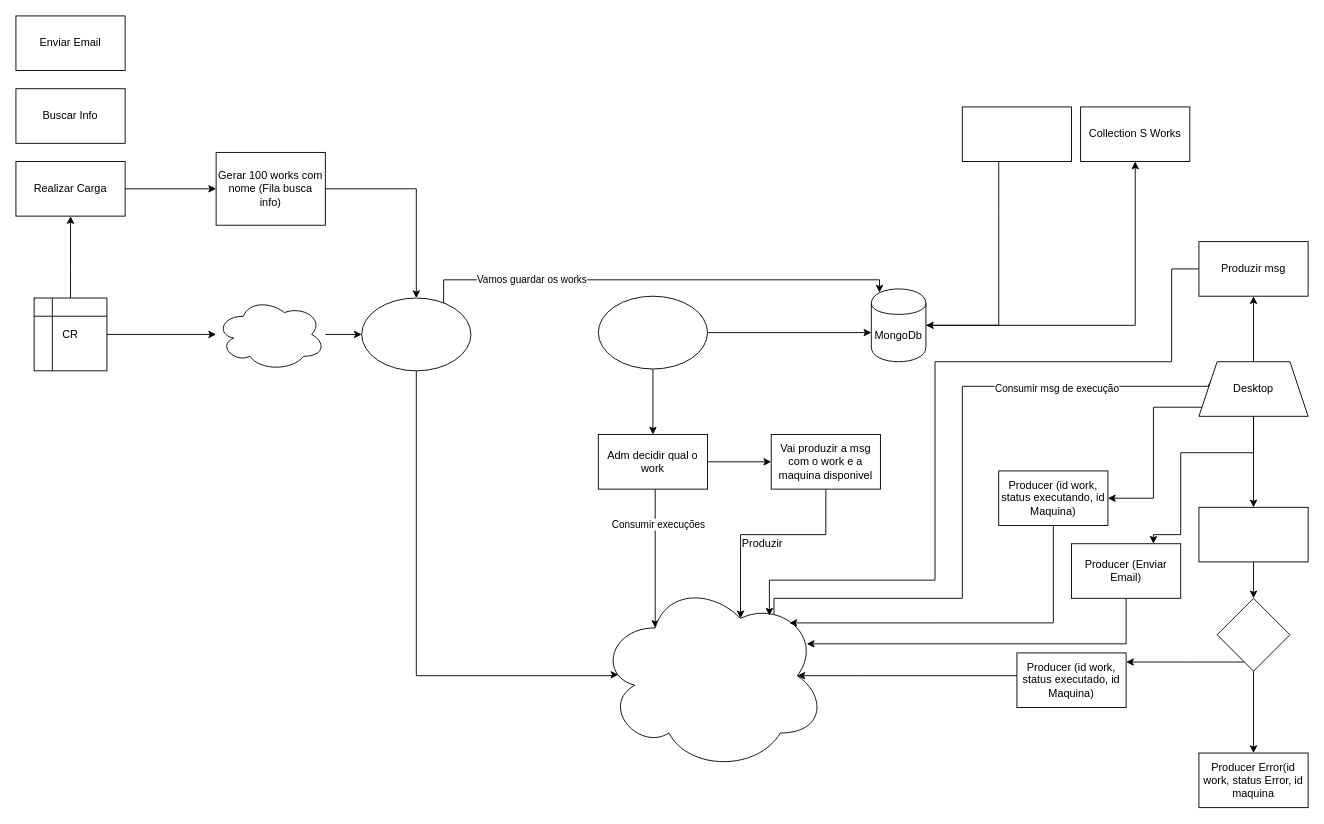
The diagram is 1324 pixels wide and 824 high, and some of its shapes have lost their labels. Each missing label, with the centre of its shape:
"Api, nodejs" goes at (x=416, y=334).
"Collection Works" goes at (x=1016, y=134).
"Exec o work" goes at (x=1253, y=534).
"Exectou ?" goes at (x=1253, y=634).
"Kak Resp apenas pra adm msg (Producer, consumer)" goes at (x=711, y=675).
"Microsservico" goes at (x=652, y=332).
"web socket" goes at (x=270, y=334).
